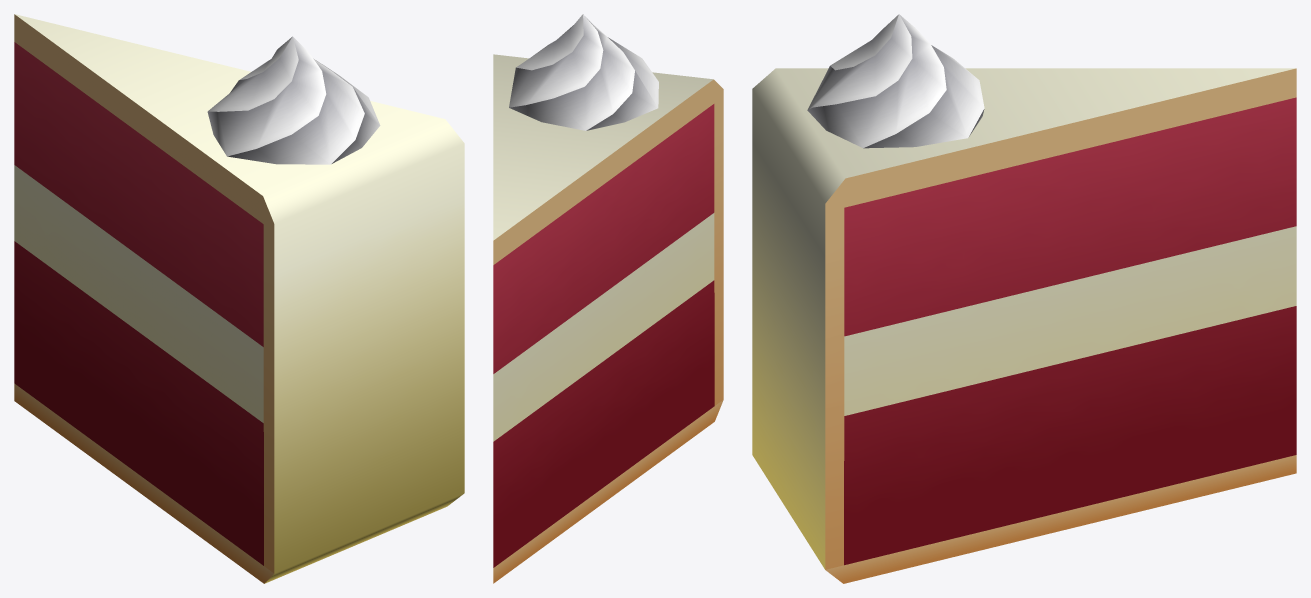
The model's file is m_RedVelvetCake01_Slice.fbx.
3 views of the same model, side by side, from view 1: azimuth 30°, elevation 25°; view 2: azimuth 150°, elevation 25°; view 3: azimuth 270°, elevation 25° (orthographic). The views are drawn at different scales.
Parts seen in each view (by area): view 1: m_RedVelvetCake01_Slice; view 2: m_RedVelvetCake01_Slice; view 3: m_RedVelvetCake01_Slice.
Part boxes in pixels (bbox=[...]): m_RedVelvetCake01_Slice: bbox=[14, 14, 464, 583]; m_RedVelvetCake01_Slice: bbox=[493, 14, 723, 583]; m_RedVelvetCake01_Slice: bbox=[752, 14, 1296, 583].
Size of the model in its own units: 7 by 14.32 by 14.
